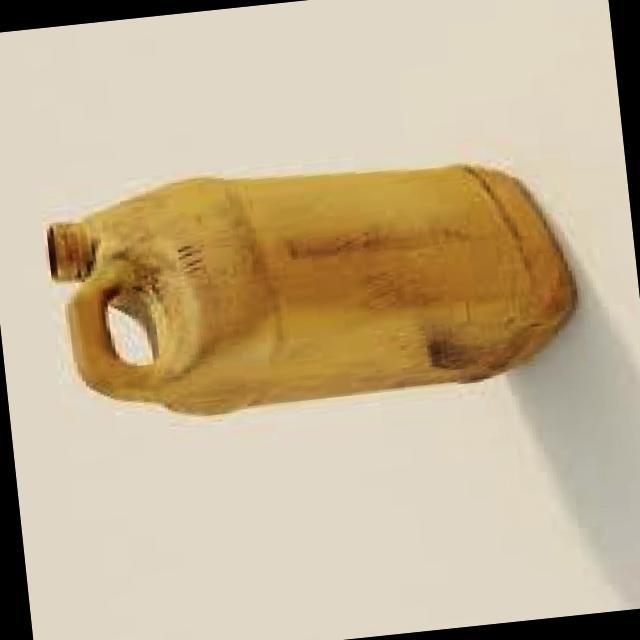HDPE Plastic: (42, 162, 581, 422)
